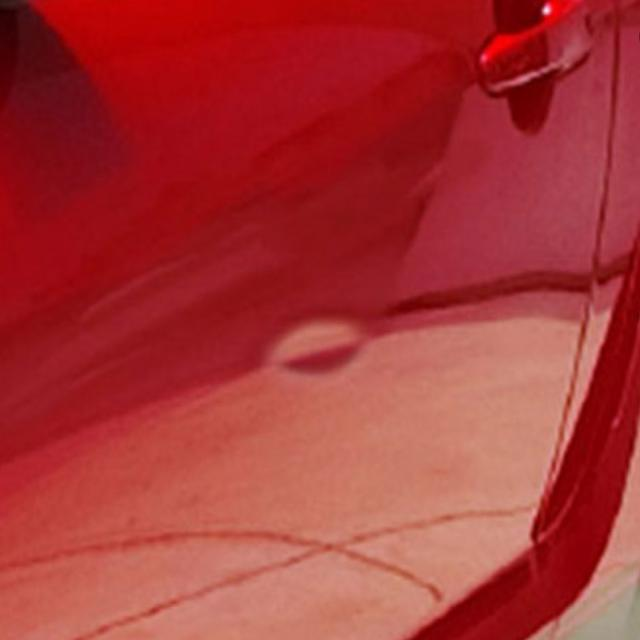dents: (237, 274, 403, 420)
